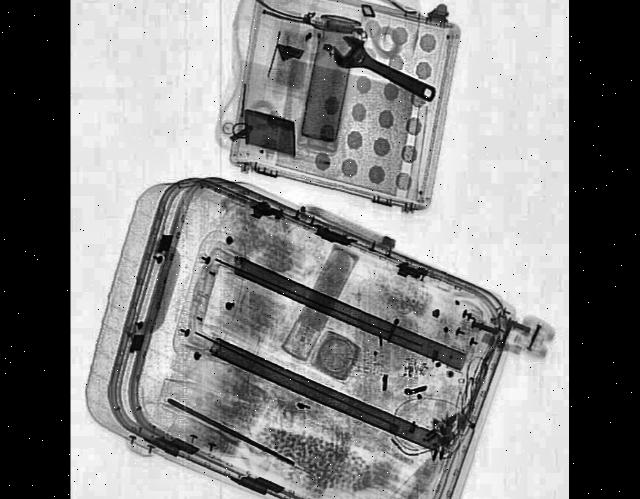Wrench: (328, 24, 439, 108)
